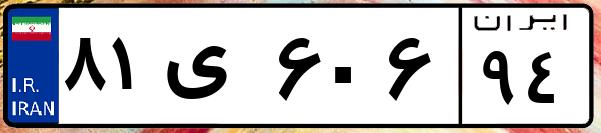0: (330, 28, 385, 110)
1: (110, 28, 158, 98)
4: (525, 38, 570, 115)
6: (270, 28, 330, 110), (385, 28, 445, 110)
8: (57, 26, 110, 100)
9: (475, 38, 525, 113)
ی: (158, 20, 270, 120)
